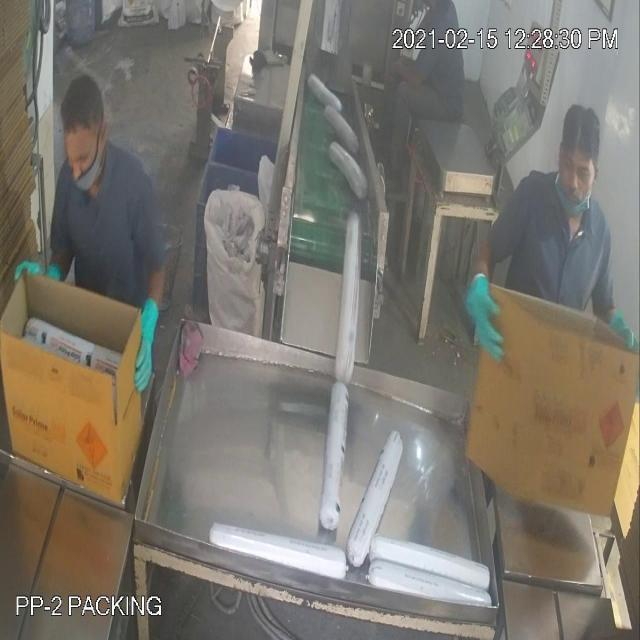Gloves: (57, 54, 486, 337)
